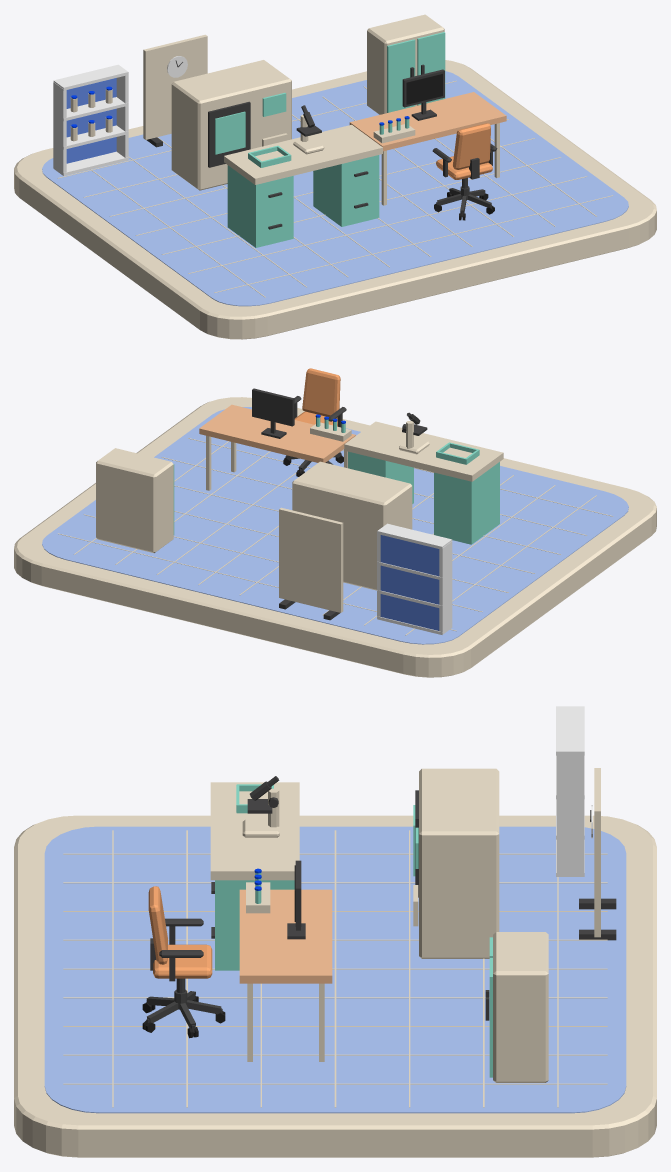
File: room.fbx
3 views of the same model, one above another, from view 1: azimuth 30°, elevation 25°; view 2: azimuth 150°, elevation 25°; view 3: azimuth 270°, elevation 25° (orthographic). The views are drawn at different scales.
Visible parts, largest first — view 1: COM-02 Floor Surface, COM-01 Rounded Base Direct, Analysis cabinet, Top, Storage module, Worktop, Storage module.001, Panel, COM-04_Chair_blender_direct, Equipment case, Cabinet back, Door (+14 smaller); view 2: COM-02 Floor Surface, COM-01 Rounded Base Direct, Analysis cabinet, Equipment case, Panel, Cabinet back, Top, Storage module, Worktop, COM-04_Chair_blender_direct, Frame, Clean supply cabinet side (+3 smaller); view 3: COM-02 Floor Surface, COM-01 Rounded Base Direct, Analysis cabinet, Top, Equipment case, Worktop, COM-04_Chair_blender_direct, Clean supply cabinet side.001, Storage module.001, Clean supply shelf.003, Panel, Grout X.008 (+7 smaller).
Boxes of the visible parts, bbox=[...] form: COM-02 Floor Surface: bbox=[42, 71, 628, 306]; COM-01 Rounded Base Direct: bbox=[14, 60, 656, 339]; Analysis cabinet: bbox=[171, 60, 291, 190]; Top: bbox=[349, 92, 506, 205]; Storage module: bbox=[227, 165, 293, 247]; Worktop: bbox=[224, 124, 382, 184]; Storage module.001: bbox=[313, 155, 379, 226]; Panel: bbox=[143, 34, 207, 139]; COM-04_Chair_blender_direct: bbox=[432, 123, 497, 220]; Equipment case: bbox=[367, 14, 444, 114]; Cabinet back: bbox=[66, 78, 116, 163]; Door: bbox=[387, 39, 415, 112]; COM-02 Floor Surface: bbox=[42, 407, 628, 644]; COM-01 Rounded Base Direct: bbox=[14, 397, 656, 677]; Analysis cabinet: bbox=[292, 461, 412, 590]; Equipment case: bbox=[96, 448, 173, 553]; Panel: bbox=[279, 507, 343, 612]; Cabinet back: bbox=[380, 535, 439, 630]; Top: bbox=[199, 404, 355, 490]; Storage module: bbox=[434, 462, 499, 544]; Worktop: bbox=[344, 421, 503, 481]; COM-04_Chair_blender_direct: bbox=[283, 368, 346, 476]; Frame: bbox=[252, 388, 294, 438]; Clean supply cabinet side: bbox=[439, 541, 452, 634]; COM-02 Floor Surface: bbox=[44, 826, 626, 1113]; COM-01 Rounded Base Direct: bbox=[14, 815, 656, 1157]; Analysis cabinet: bbox=[419, 768, 499, 958]; Top: bbox=[239, 889, 332, 1061]; Equipment case: bbox=[493, 932, 548, 1082]; Worktop: bbox=[210, 782, 299, 880]; COM-04_Chair_blender_direct: bbox=[142, 886, 225, 1038]; Clean supply cabinet side.001: bbox=[556, 753, 584, 876]; Storage module.001: bbox=[215, 880, 294, 970]; Clean supply shelf.003: bbox=[556, 706, 584, 755]; Panel: bbox=[594, 768, 600, 937]; Grout X.008: bbox=[63, 1083, 607, 1084].
Bounding box in the file's own units: 600 × 169 × 520.
